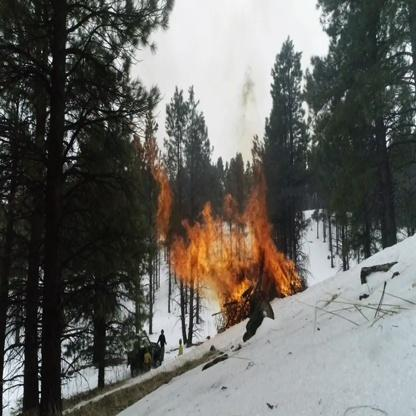Fire: (131, 129, 307, 327)
